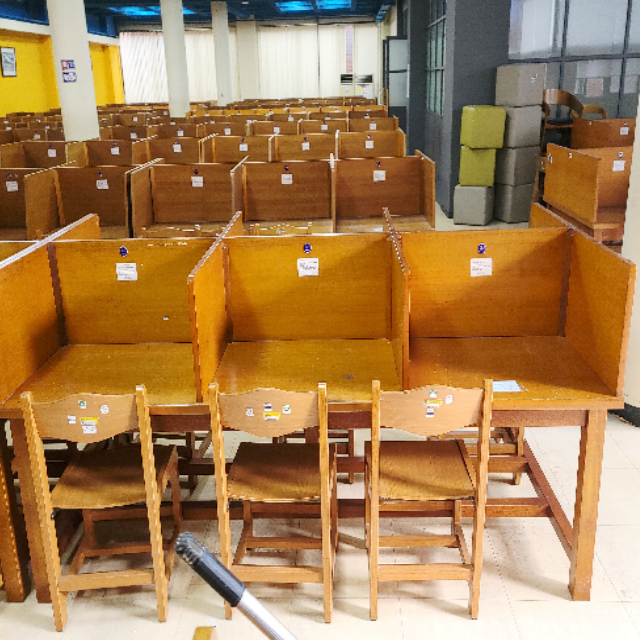empty: (412, 204, 627, 512), (203, 200, 407, 512), (2, 199, 201, 503)
